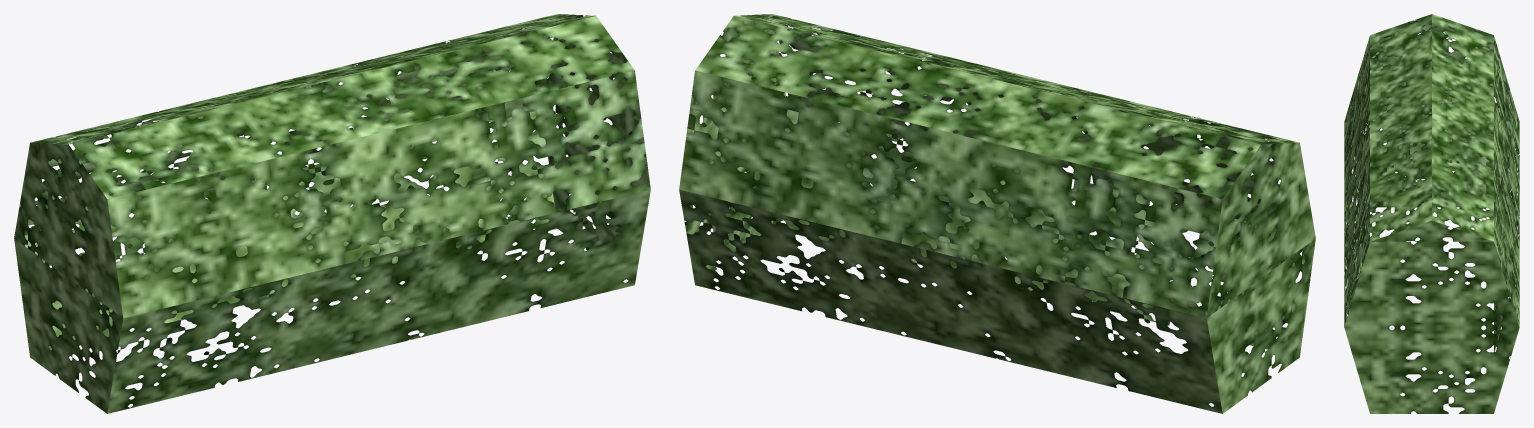
File: bush_long_summer.fbx
3 views of the same model, side by side, from view 1: azimuth 30°, elevation 25°; view 2: azimuth 150°, elevation 25°; view 3: azimuth 270°, elevation 25° (orthographic). The views are drawn at different scales.
Parts seen in each view (by area): view 1: bush_long_summer; view 2: bush_long_summer; view 3: bush_long_summer.
Boxes of the visible parts, box(x1,y1,x2,y2) form: bush_long_summer: box(14, 14, 650, 413); bush_long_summer: box(679, 14, 1315, 413); bush_long_summer: box(1344, 14, 1519, 413).
Size of the model in its own units: 201 by 87.65 by 71.91.
Materials: 1 (1 with a texture image).
